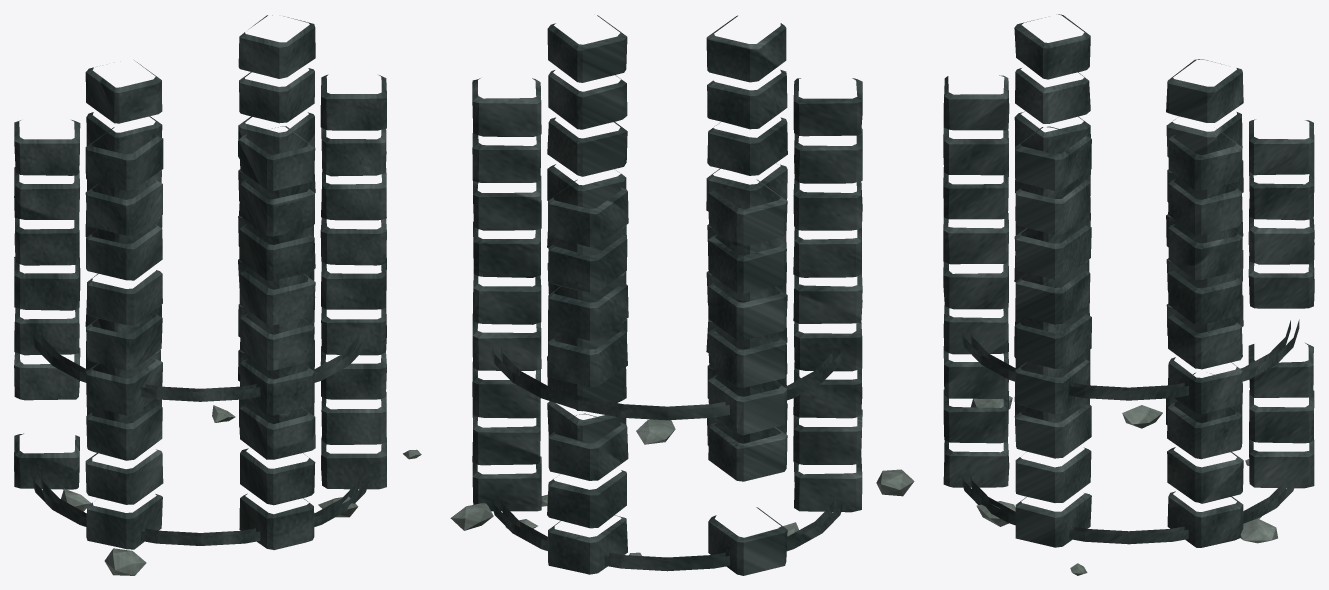
Rendered from 0410_ruined_tower_10.glb.
3 renders of one model, left to right at view 1: azimuth 30°, elevation 25°; view 2: azimuth 150°, elevation 25°; view 3: azimuth 270°, elevation 25°, orthographic. The views are drawn at different scales.
Visible parts, largest first — view 1: stone_dark, stone; view 2: stone_dark, stone; view 3: stone_dark, stone.
Part boxes in pixels (box(x1,y1,x2,y2)): stone_dark: box(14, 15, 386, 549); stone: box(61, 405, 421, 575); stone_dark: box(472, 15, 862, 575); stone: box(450, 419, 914, 555); stone_dark: box(943, 14, 1314, 547); stone: box(971, 396, 1277, 575).
Size of the model in its own units: 3.48 by 3.77 by 3.17.
2 materials, 2 textured.
